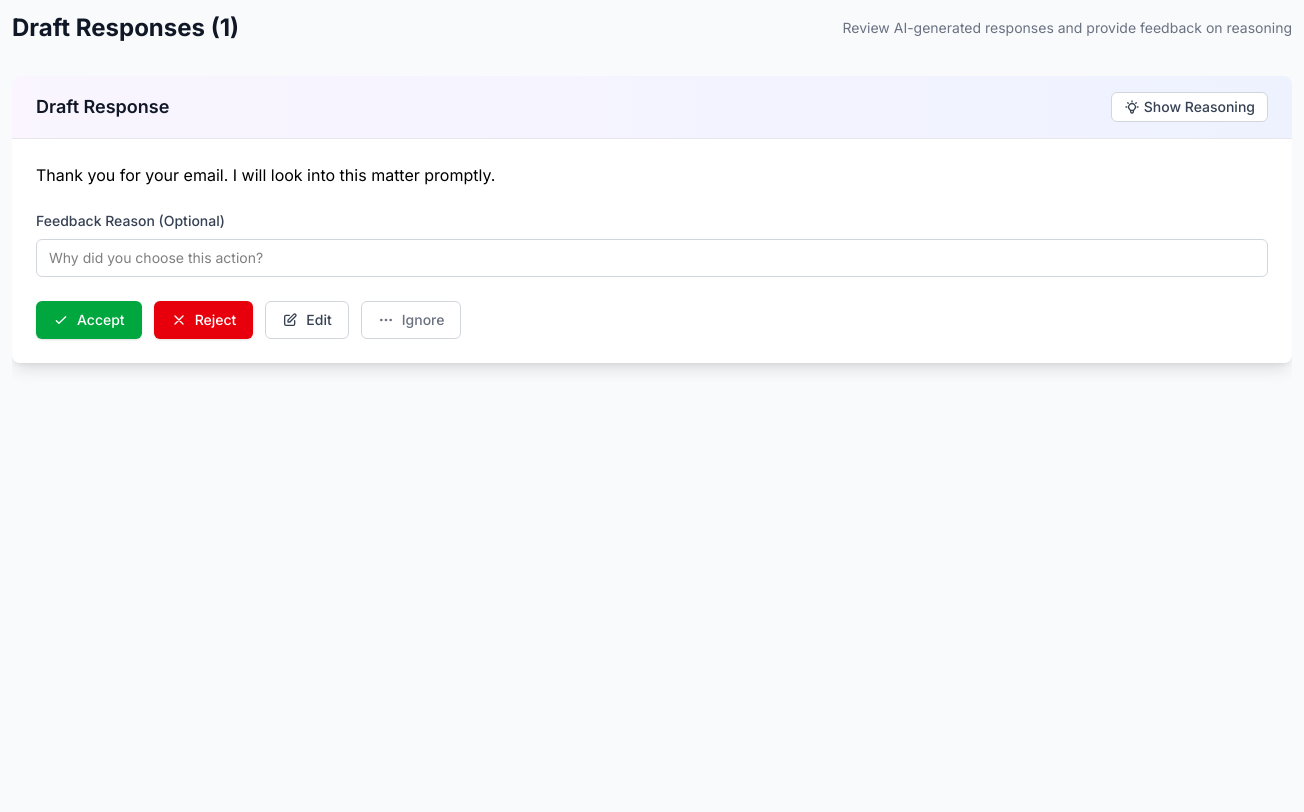
EnhancedDraftViewer Integration › shows reasoning factors when button is clicked
Expected: the text "Reasoning Factors (1)" is not shown
Click show reasoning button
What coordinates should you click on to do the following:
click the button "Show Reasoning"
I would click on:
 (1189, 107)
Its box is [1111,92,1268,122].
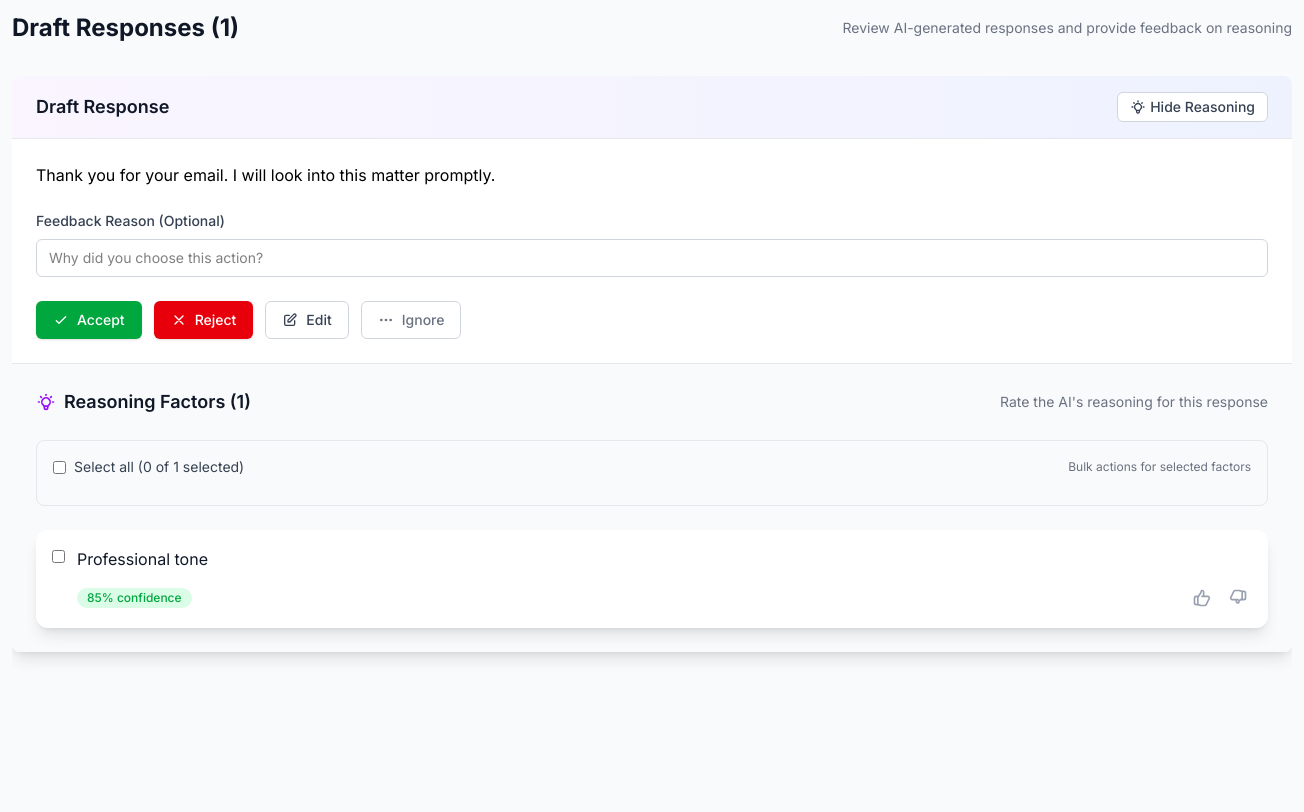
Expected: the button "Hide Reasoning" is shown, [1117,92,1268,122]
Expected: the heading "Reasoning Factors (1)" is shown, [36,388,251,416]
